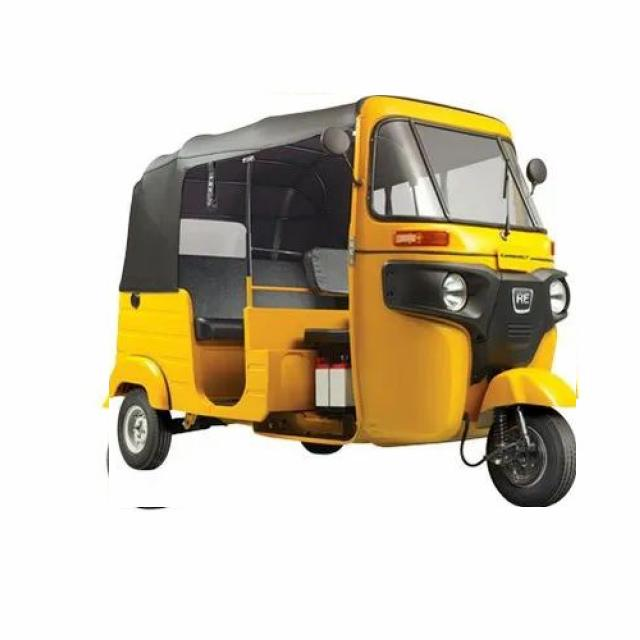autorickshaw: (109, 96, 576, 507)
